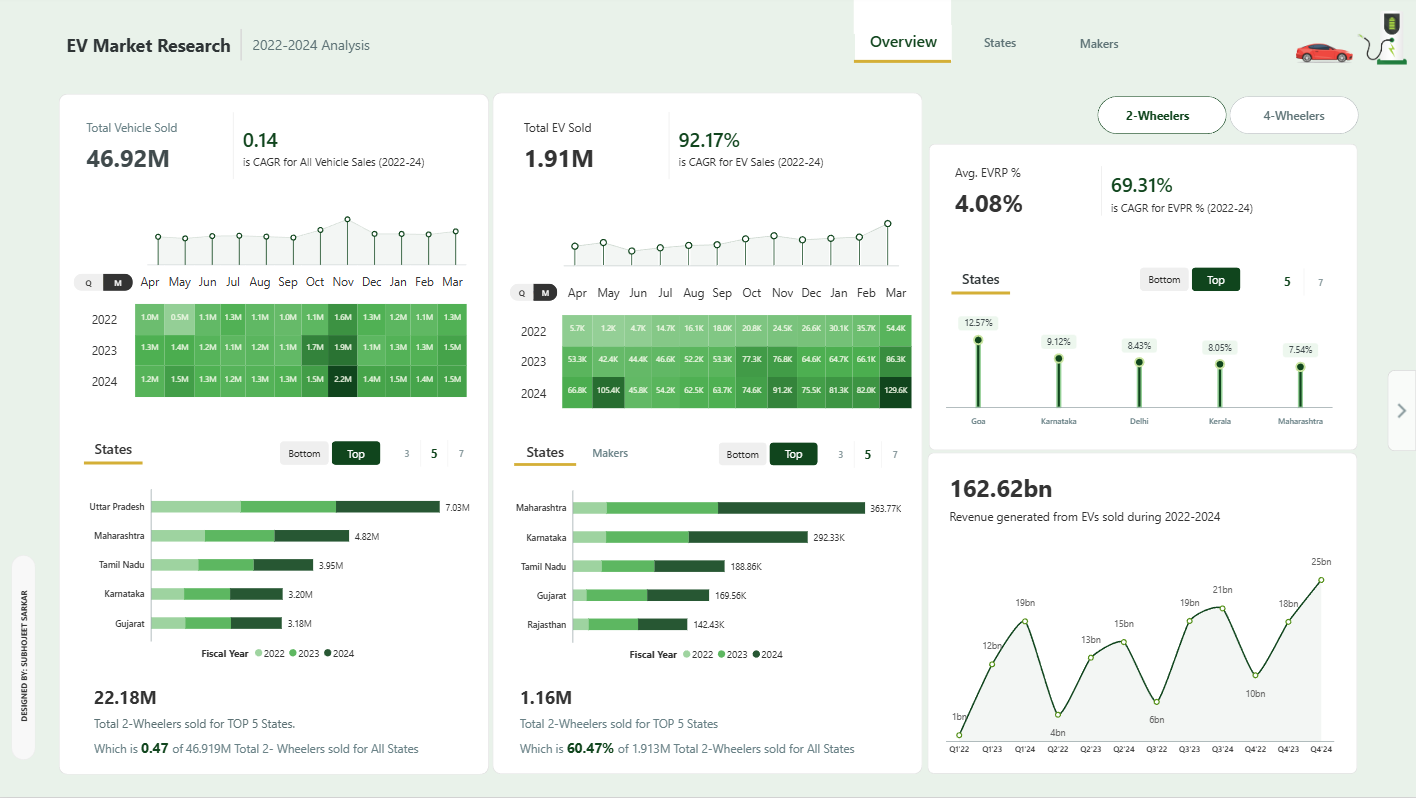

Layout of this report page (visuals, bound fields, positions):
{"tool":"powerbi","page":{"name":"Overview","canvas":[1920,1080],"ordinal":1},"visuals":[{"type":"shape","box":[79.8,126.7,583.3,923.3],"z":0},{"type":"shape","box":[1290,383.8,80,25],"z":0,"group":"g1"},{"type":"shape","box":[668.6,125.7,583,924.3],"z":1000},{"type":"shape","box":[1290,358.8,80,36.7],"z":1000,"group":"g1"},{"type":"shape","box":[1258.6,195.7,581.4,415.7],"z":2000},{"type":"shape","box":[1257.1,614.3,582.9,435.7],"z":3000},{"type":"cardVisual","fields":{"Data":["KPIs.Total Vehicle Sold"]},"box":[100,136,538,124],"z":4000},{"type":"shape","box":[90.5,41.6,229.8,36.2],"z":5000},{"type":"lineChart","fields":{"Category":["dim_date.month_name"],"Y":["KPIs.Total Vehicle Sold"]},"box":[195.6,279.1,442.9,90],"z":6000},{"type":"advancedSlicerVisual","fields":{"Values":["Dim_Vehicle_type.Description"]},"box":[1488.3,130,355,51.7],"z":7000},{"type":"cardVisual","fields":{"Data":["KPIs.EV Penetration rate"]},"box":[1278.6,208.6,535.7,101.4],"z":8000},{"type":"shape","box":[320,38.5,13.3,43.3],"z":9000},{"type":"group","id":"g1","title":"Group 3","box":[1290,358.8,80,50],"z":10000},{"type":"advancedSlicerVisual","fields":{"Values":["0103_Category Order.Value"]},"box":[1545.9,363.1,136,32],"z":11000},{"type":"advancedSlicerVisual","fields":{"Values":["Param 010301: No. of category.Param010102: No. of category"]},"box":[1723.3,365,90,36.7],"z":12000},{"type":"lineChart","fields":{"Y":["KPIs.010302: EVRP% Filtered Top and Bottom"],"Category":["electric_vehicle_sales_by_state.State"]},"box":[1278.6,415.7,534.3,172.9],"z":13000},{"type":"actionButton","box":[1425.6,33.3,130,48.9],"z":14000},{"type":"actionButton","box":[1290,32.2,132.2,50],"z":15000},{"type":"actionButton","box":[1158.8,33.8,131.2,48.8],"z":16000},{"type":"pivotTable","fields":{"Columns":["dim_date.month_name"],"Values":["KPIs.Total Vehicle Sold"],"Rows":["dim_date.Fiscal Year"]},"box":[100,356,544,190],"z":17000},{"type":"shape","box":[1158,72,132,24],"z":18000},{"type":"pivotTable","fields":{"Columns":["dim_date.month_name"],"Values":["KPIs.Total EV Sold States"],"Rows":["dim_date.Fiscal Year"]},"box":[684.1,371,555.6,190],"z":19000},{"type":"advancedSlicerVisual","fields":{"Values":["Param 0102: Quarter-Month.Param 0102: Quarter-Month"]},"box":[691.3,385.5,64.2,23.3],"z":19000,"group":"g3"},{"type":"shape","box":[1158,0,132,46],"z":20000},{"type":"shape","box":[341.6,41.9,268.3,36.7],"z":21000},{"type":"image","box":[1753.3,25,86.8,93.5],"z":22000},{"type":"image","box":[1828.4,0,91.8,100.2],"z":23000},{"type":"cardVisual","fields":{"Data":["KPIs.0104 Revenue"]},"box":[1278.3,636.7,435,80],"z":24000},{"type":"lineChart","fields":{"Category":["dim_date.Quarter Year No"],"Y":["KPIs.0104 Revenue"]},"box":[1278.3,728.3,536.7,305],"z":25000},{"type":"group","id":"g2","title":"Group 4","box":[113,589.8,80,50],"z":26000},{"type":"advancedSlicerVisual","fields":{"Values":["0101_Category Order.Value"]},"box":[379.2,598.3,136,32],"z":27000},{"type":"advancedSlicerVisual","fields":{"Values":["Param010101: No. of category.Param010101: No. of category"]},"box":[533.2,596.3,112,36],"z":28000},{"type":"barChart","fields":{"Y":["KPIs.010104: Total Vehicle sold Filtered Top and Bottom"],"Category":["electric_vehicle_sales_by_state.State"],"Series":["dim_date.Fiscal Year"]},"box":[112.5,647.3,534.3,260],"z":29000},{"type":"shape","box":[113,614.8,80,25],"z":30000,"group":"g2"},{"type":"cardVisual","fields":{"Data":["KPIs.Total Vehicle sold for TOP/Bottom States"]},"box":[103.3,926.7,535,106.7],"z":30000},{"type":"advancedSlicerVisual","fields":{"Values":["Param 0101 : Quarter-Month.Param 0101 : Quarter-Month"]},"box":[100.2,370.7,81.8,23.4],"z":31000},{"type":"shape","box":[113,589.8,80,36.7],"z":31000,"group":"g2"},{"type":"actionButton","box":[15,752,33,278],"z":32000},{"type":"actionButton","box":[1881.2,502.5,38.8,110],"z":33000},{"type":"advancedSlicerVisual","fields":{"Values":["Order.Value"]},"box":[974.9,599.9,135.7,31.4],"z":34000},{"type":"advancedSlicerVisual","fields":{"Values":["Param010203: No. of category.Param010203: No. of category"]},"box":[1121.4,597.5,112.5,36.2],"z":35000},{"type":"barChart","fields":{"Category":["electric_vehicle_sales_by_makers.Maker"],"Y":["KPIs.010204: Total EV sold by Staes/makers Filtered Top and Bottom"],"Series":["dim_date.Fiscal Year"]},"box":[690.7,648.6,540,260],"z":36000},{"type":"cardVisual","fields":{"Data":["KPIs.0102: Total EV sold"]},"box":[694,136,532,124],"z":37000},{"type":"cardVisual","fields":{"Data":["KPIs.010205: Total Evs sold for Top/BOttom States/Makers"]},"box":[696.7,926.7,533.3,106.7],"z":38000},{"type":"lineChart","fields":{"Category":["dim_date.month_name"],"Y":["KPIs.0102: Total EV sold"]},"box":[760.1,282.3,465.1,88.7],"z":39000},{"type":"group","id":"g3","title":"Group 2","box":[691.3,385.5,63.3,23.5],"z":40000},{"type":"advancedSlicerVisual","fields":{"Values":["Param 010202: States vs Makers.Param 010202: States vs Makers"]},"box":[693.2,594.8,181.7,41.7],"z":41000}]}

Visuals, with their boxes in screenshot pixels (x1, y1, x2, y2), scaled from the page's 1920x1080 canvas onto the 1416x798 screenshot:
shape: detection(59, 94, 489, 776)
shape: detection(951, 284, 1010, 302)
shape: detection(493, 93, 923, 776)
shape: detection(951, 265, 1010, 292)
shape: detection(928, 145, 1357, 452)
shape: detection(927, 454, 1357, 776)
cardVisual - KPIs.Total Vehicle Sold: detection(74, 100, 471, 192)
shape: detection(67, 31, 236, 57)
lineChart - dim_date.month_name x KPIs.Total Vehicle Sold: detection(144, 206, 471, 273)
advancedSlicerVisual - Dim_Vehicle_type.Description: detection(1098, 96, 1359, 134)
cardVisual - KPIs.EV Penetration rate: detection(943, 154, 1338, 229)
shape: detection(236, 28, 246, 60)
"Group 3" group: detection(951, 265, 1010, 302)
advancedSlicerVisual - 0103_Category Order.Value: detection(1140, 268, 1240, 292)
advancedSlicerVisual - Param 010301: No. of category.Param010102: No. of category: detection(1271, 270, 1337, 297)
lineChart - KPIs.010302: EVRP% Filtered Top and Bottom x electric_vehicle_sales_by_state.State: detection(943, 307, 1337, 435)
actionButton: detection(1051, 25, 1147, 61)
actionButton: detection(951, 24, 1049, 61)
actionButton: detection(855, 25, 951, 61)
pivotTable - dim_date.month_name x KPIs.Total Vehicle Sold: detection(74, 263, 475, 403)
shape: detection(854, 53, 951, 71)
pivotTable - dim_date.month_name x KPIs.Total EV Sold States: detection(505, 274, 914, 415)
advancedSlicerVisual - Param 0102: Quarter-Month.Param 0102: Quarter-Month: detection(510, 285, 557, 302)
shape: detection(854, 0, 951, 34)
shape: detection(252, 31, 450, 58)
image: detection(1293, 18, 1357, 88)
image: detection(1348, 0, 1415, 74)
cardVisual - KPIs.0104 Revenue: detection(943, 470, 1264, 530)
lineChart - dim_date.Quarter Year No x KPIs.0104 Revenue: detection(943, 538, 1339, 763)
"Group 4" group: detection(83, 436, 142, 473)
advancedSlicerVisual - 0101_Category Order.Value: detection(280, 442, 380, 466)
advancedSlicerVisual - Param010101: No. of category.Param010101: No. of category: detection(393, 441, 476, 467)
barChart - KPIs.010104: Total Vehicle sold Filtered Top and Bottom x electric_vehicle_sales_by_state.State: detection(83, 478, 477, 670)
shape: detection(83, 454, 142, 473)
cardVisual - KPIs.Total Vehicle sold for TOP/Bottom States: detection(76, 685, 471, 764)
advancedSlicerVisual - Param 0101 : Quarter-Month.Param 0101 : Quarter-Month: detection(74, 274, 134, 291)
shape: detection(83, 436, 142, 463)
actionButton: detection(11, 556, 35, 761)
actionButton: detection(1387, 371, 1415, 453)
advancedSlicerVisual - Order.Value: detection(719, 443, 819, 466)
advancedSlicerVisual - Param010203: No. of category.Param010203: No. of category: detection(827, 441, 910, 468)
barChart - electric_vehicle_sales_by_makers.Maker x KPIs.010204: Total EV sold by Staes/makers Filtered Top and Bottom: detection(509, 479, 908, 671)
cardVisual - KPIs.0102: Total EV sold: detection(512, 100, 904, 192)
cardVisual - KPIs.010205: Total Evs sold for Top/BOttom States/Makers: detection(514, 685, 907, 764)
lineChart - dim_date.month_name x KPIs.0102: Total EV sold: detection(561, 209, 904, 274)
"Group 2" group: detection(510, 285, 557, 302)
advancedSlicerVisual - Param 010202: States vs Makers.Param 010202: States vs Makers: detection(511, 439, 645, 470)
